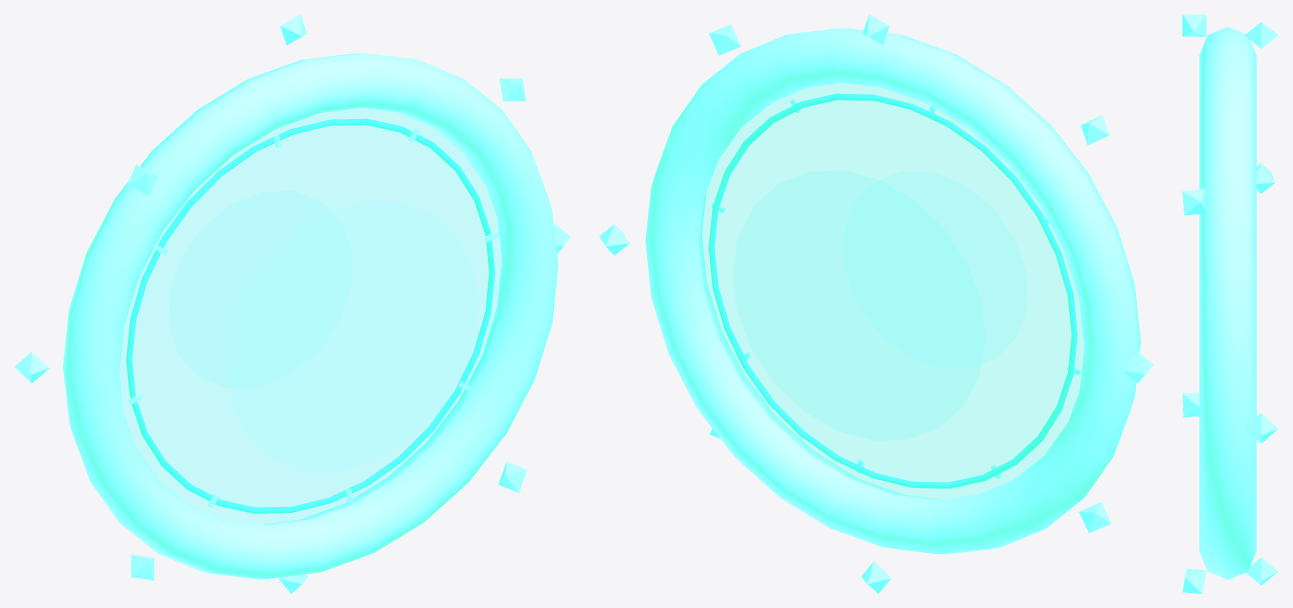
File: portal.glb
3 renders of one model, left to right at view 1: azimuth 30°, elevation 25°; view 2: azimuth 150°, elevation 25°; view 3: azimuth 270°, elevation 25°, orthographic. The views are drawn at different scales.
Bounding box in the file's own units: 6.53 × 6.54 × 1.01.
